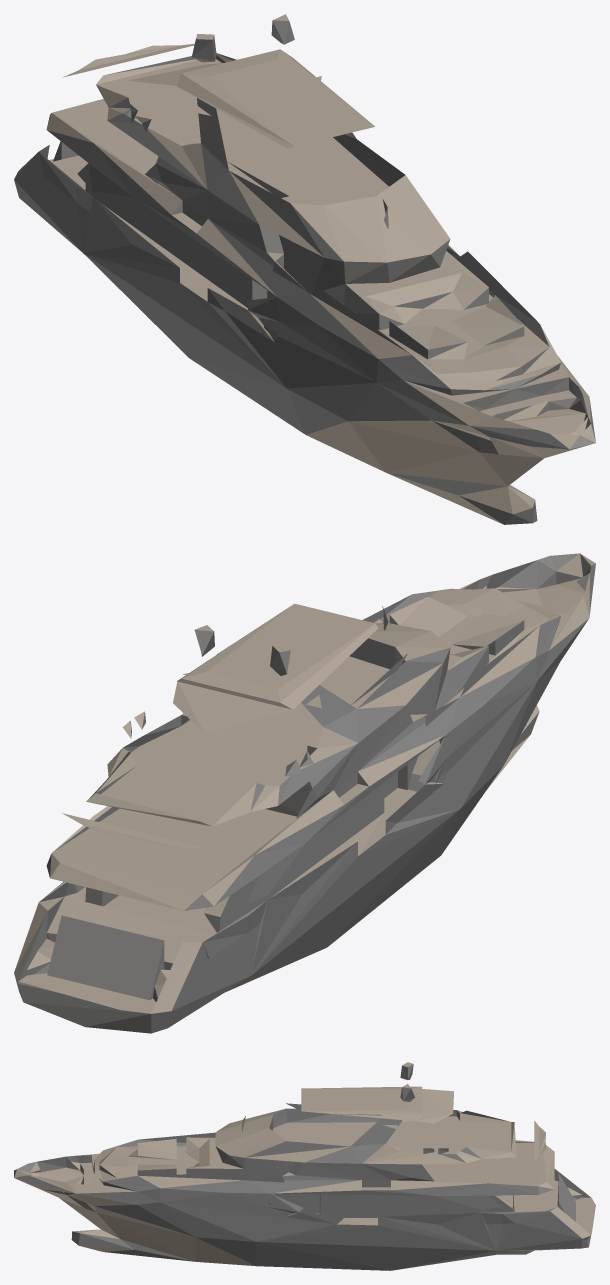
Rendered from cove-yacht.far-facades-v2.lod2.glb.
3 views of the same model, one above another, from view 1: azimuth 30°, elevation 25°; view 2: azimuth 150°, elevation 25°; view 3: azimuth 270°, elevation 25° (orthographic). The views are drawn at different scales.
Parts seen in each view (by area): view 1: cove-yacht; view 2: cove-yacht; view 3: cove-yacht.
Part boxes in pixels (x1,y1,x2,y2): cove-yacht: (14,14,595,524); cove-yacht: (14,553,595,1033); cove-yacht: (14,1062,595,1270).
Bounding box in the file's own units: 8.13 × 13.44 × 39.7.
